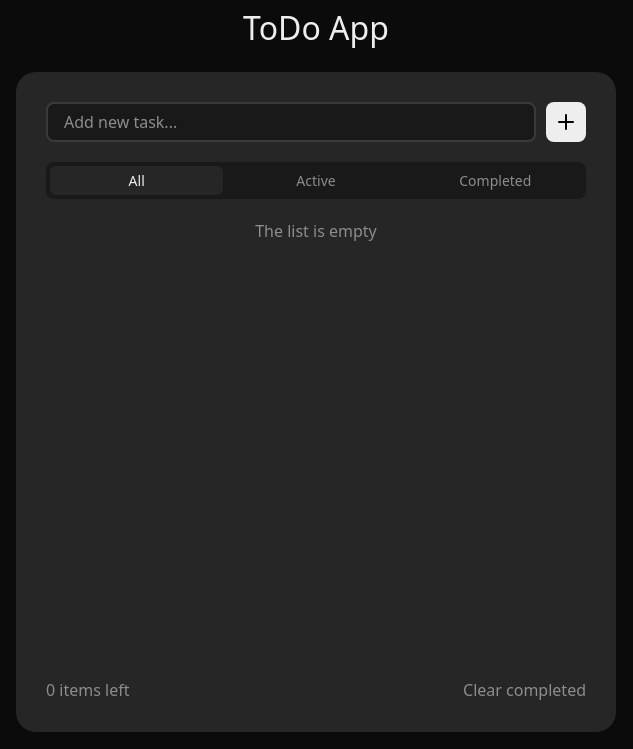
Test: Todo App › добавление задачи через Enter и кнопку
Type "Купить хлеб" into the field with placeholder "Add new task..." at (291,122), box 46,102 -> 536,142
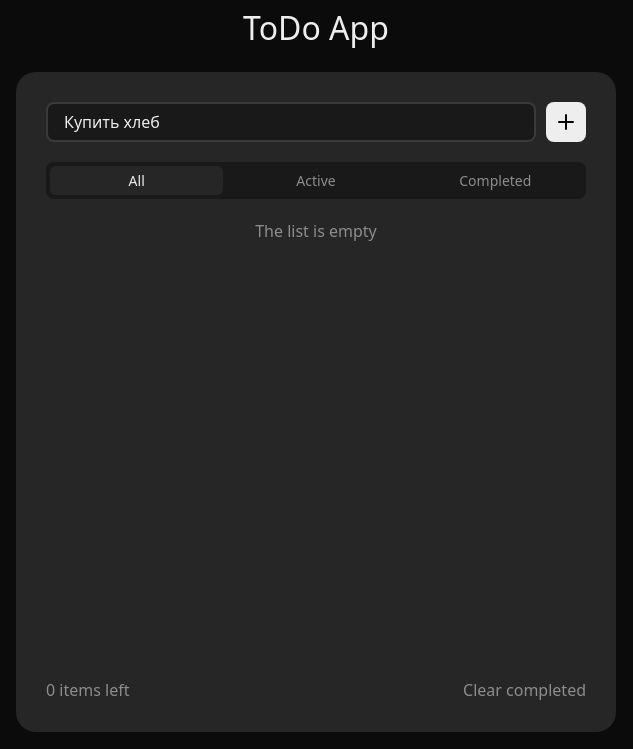
Press Enter in the field with placeholder "Add new task...", box 46,102 -> 536,142
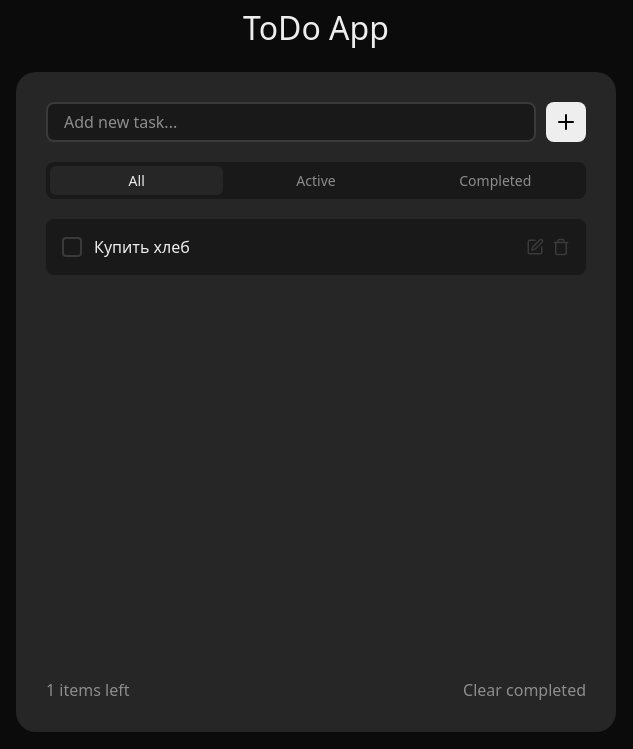
Result: the text "Купить хлеб" is shown at 94,235 -> 190,259
Type "Сходить в спортзал" into the field with placeholder "Add new task..." at (291,122), box 46,102 -> 536,142
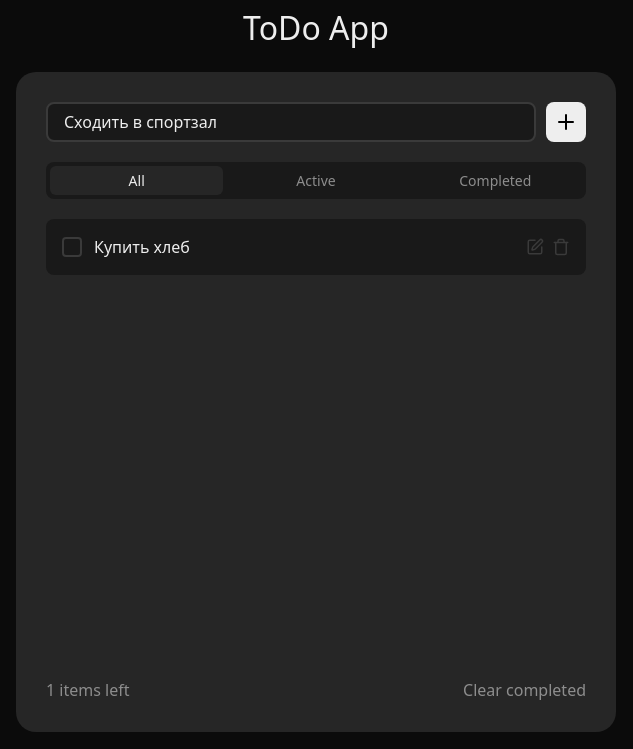
Click the button named "add task" at (566,122), box 546,102 -> 586,142
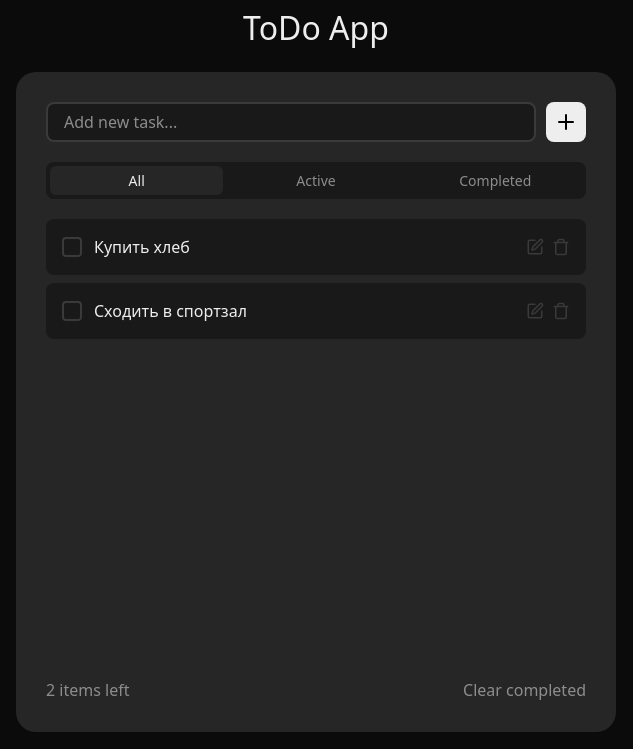
Result: the text "Сходить в спортзал" is shown at 94,299 -> 247,323
